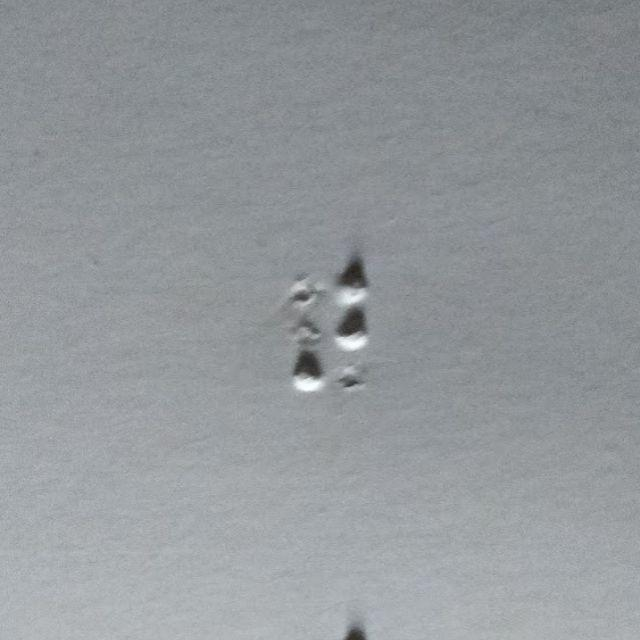araw: (291, 262, 367, 389)
